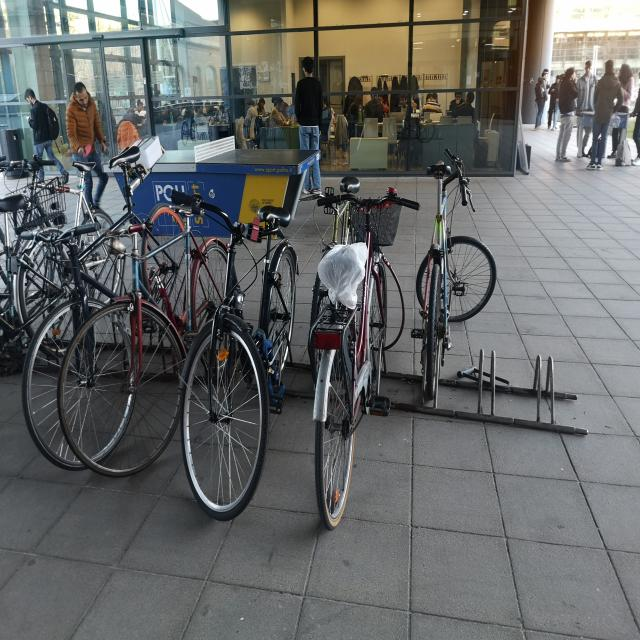Bicycle: (64, 158, 238, 511), (40, 156, 178, 488), (178, 173, 302, 514), (308, 183, 420, 536), (6, 141, 132, 342), (411, 148, 506, 403), (0, 145, 78, 311), (302, 157, 373, 331)
